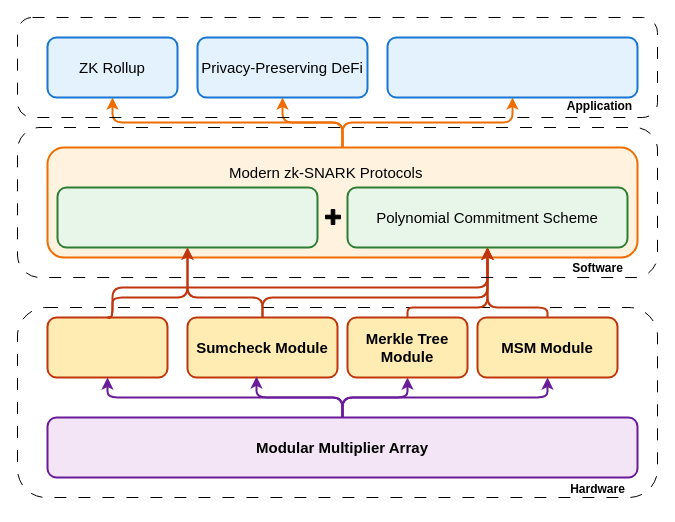
Some shapes in this 675 by 522 pixel diagram are drawn without their labels. The shapes that lost their labels are listed below. From the top down, each one's centre as x and y in pixels, then its label:
[512,67]: Verifiable and Rrivacy-preserving ML
[187,217]: Polynomial Interactive Oracle Proof
[107,347]: NTT Module
